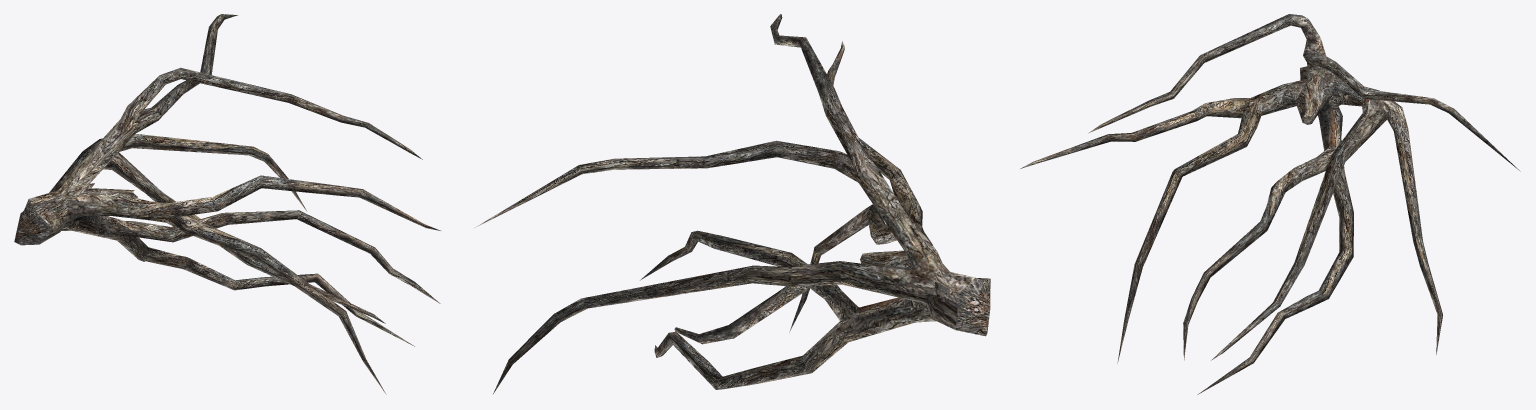
File: dead_tree17_lod2.obj
The picture shows the model from 3 angles, left to right: view 1: azimuth 30°, elevation 25°; view 2: azimuth 150°, elevation 25°; view 3: azimuth 270°, elevation 25°; orthographic projection. The views are drawn at different scales.
Visible parts, largest first — view 1: polySurface6401 group50; view 2: polySurface6401 group50; view 3: polySurface6401 group50.
Part boxes in pixels (x1=…): polySurface6401 group50: x1=14, y1=14, x2=440, y2=394; polySurface6401 group50: x1=475, y1=14, x2=990, y2=393; polySurface6401 group50: x1=1020, y1=14, x2=1520, y2=394.
Bounding box in the file's own units: 636 × 502 × 784.
